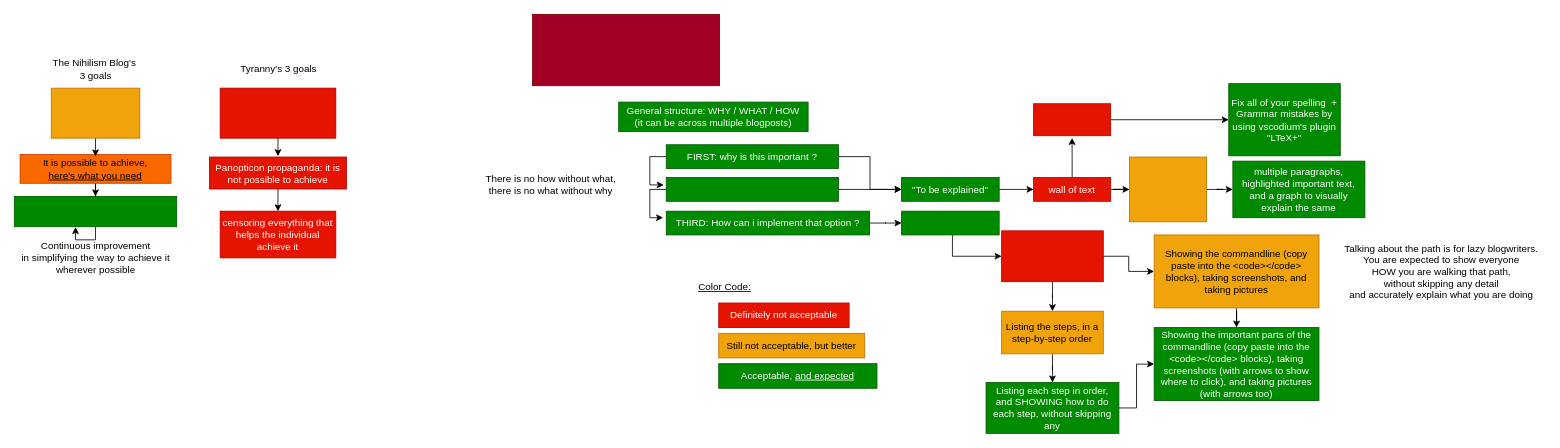
The diagram is 1560 pixels wide and 448 high, and some of its shapes have lost their labels. The shapes that lost their labels are listed below. From the top down, each one's centre as x and y in pixels, then its label:
point 626,50: The Nihilism Blog Quality Standard
point 95,112: You actually need privacy, anonymity and deniability, here's why
point 277,112: Trust us, you don't need privacy, anonymity and deniability, don't ask why
point 1072,119: Spelling mistakes
point 751,189: SECOND: what is the best option ?
point 1168,189: multiple paragraphs with highlighted important parts (using <b></b>)
point 95,211: It is simpler than you think, here's how you can implement it
point 950,222: "To be showcased"
point 1052,256: just talking about the steps to make without showing each one (aka being lazy)
